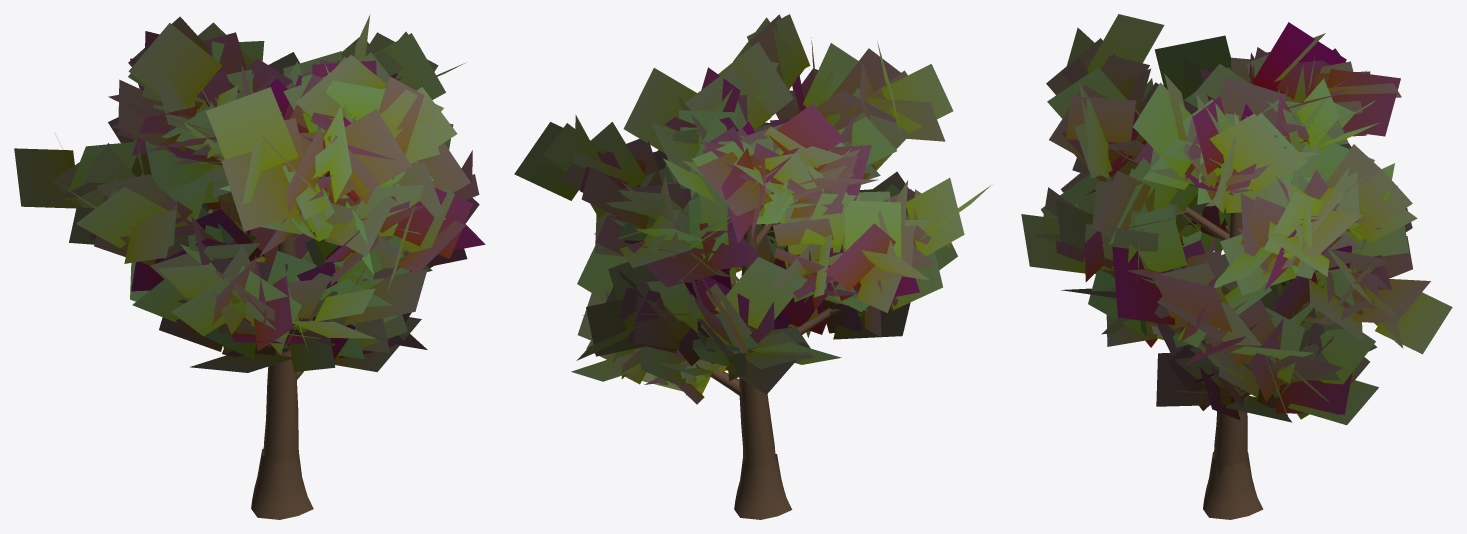
Rendered from tree_oak_2.glb.
3 renders of one model, left to right at view 1: azimuth 30°, elevation 25°; view 2: azimuth 150°, elevation 25°; view 3: azimuth 270°, elevation 25°, orthographic. The views are drawn at different scales.
Visible parts, largest first — view 1: Leaves, Trunk; view 2: Leaves, Trunk; view 3: Leaves, Trunk.
Part boxes in pixels (x1,y1,x2,y2): Leaves: [14, 14, 485, 372]; Trunk: [130, 89, 361, 519]; Leaves: [514, 14, 992, 404]; Trunk: [630, 90, 869, 519]; Leaves: [1021, 14, 1452, 425]; Trunk: [1108, 81, 1310, 519].
Size of the model in its own units: 7.88 by 8.2 by 6.95.
